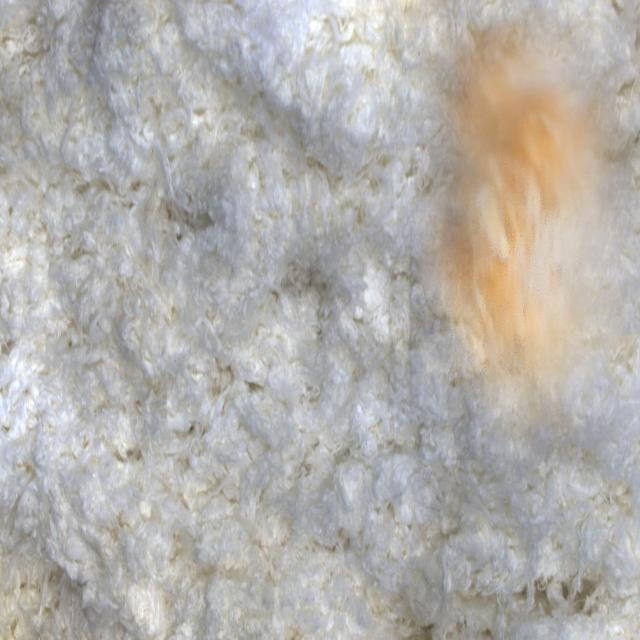dust: (409, 8, 640, 460)
